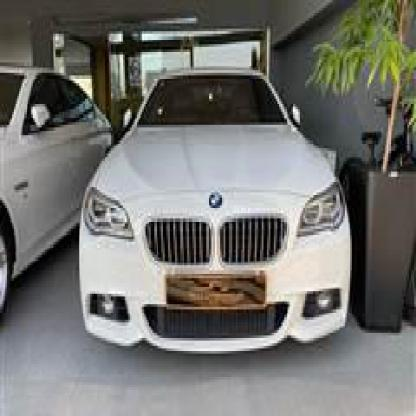car: (81, 52, 356, 367), (0, 52, 111, 320)
